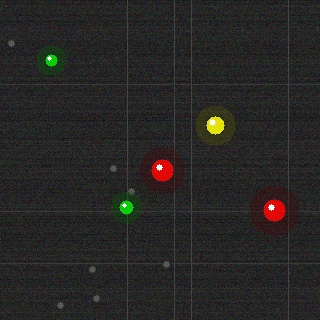green_normal: (117, 198, 135, 216), (43, 52, 59, 68)
red_fault: (261, 197, 287, 223), (149, 157, 175, 183)
yellow_warning: (204, 114, 226, 136)
